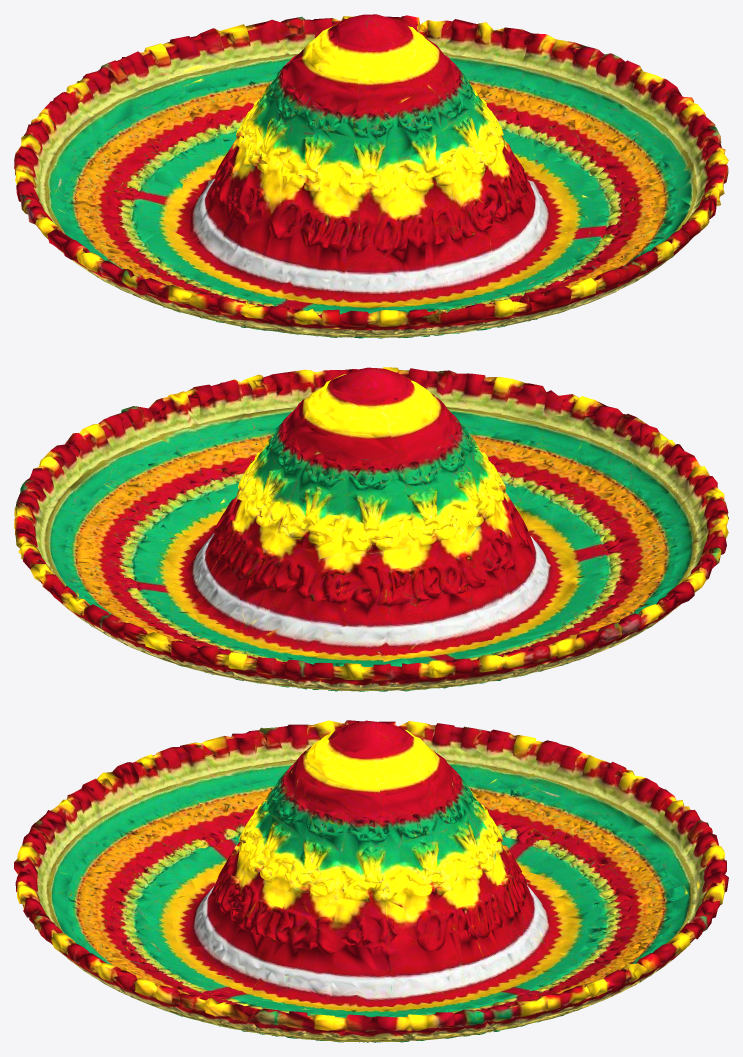
The model's file is fiesta_sombrero.glb.
The picture shows the model from 3 angles, top to bottom: view 1: azimuth 30°, elevation 25°; view 2: azimuth 150°, elevation 25°; view 3: azimuth 270°, elevation 25°; orthographic projection.
Bounding box in the file's own units: 1.89 × 0.6957 × 1.89.
Materials: 1 (1 with a texture image).
